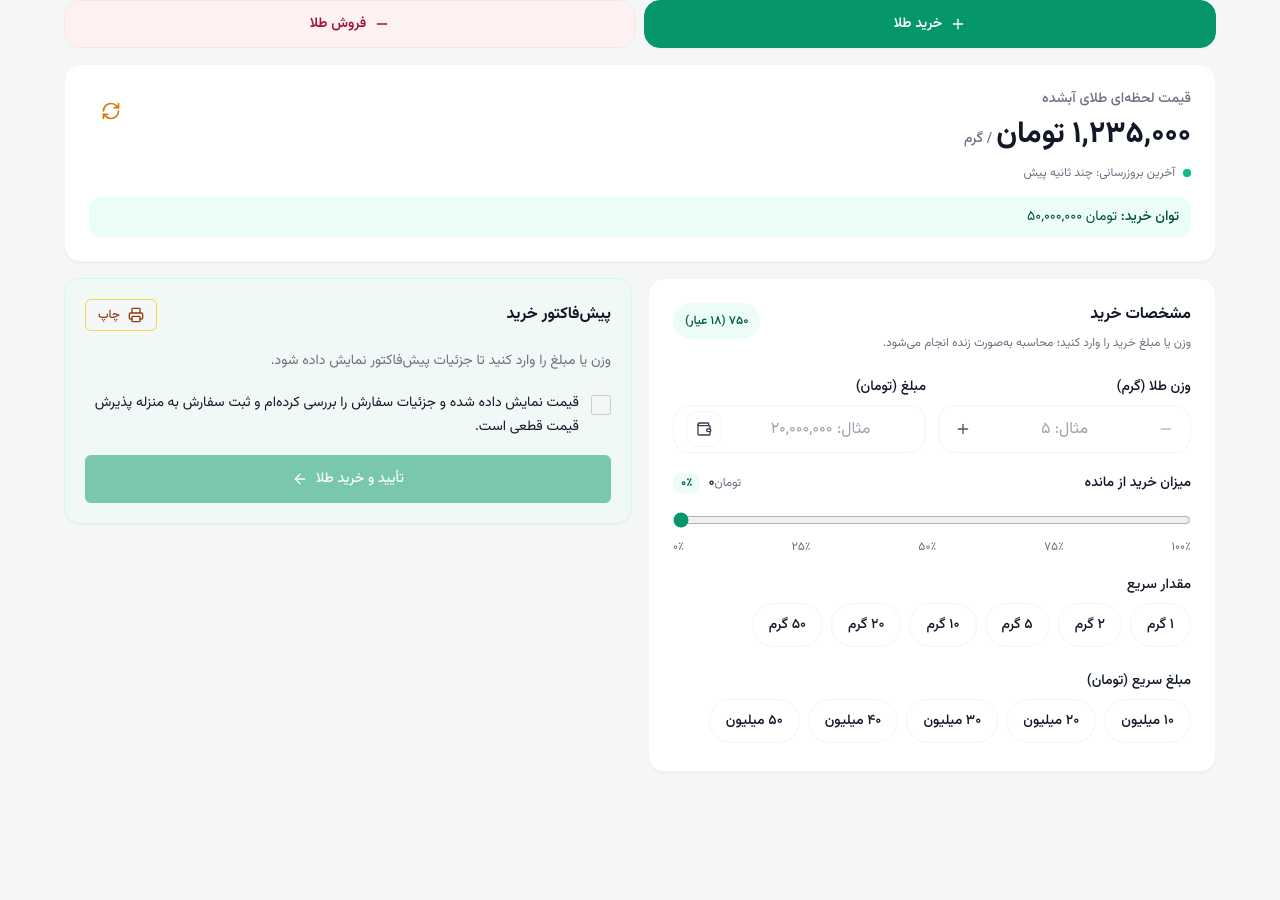
Scenario: BuyGoldPage › fills buy weight from a fifth of available credit
Check: the text "قیمت لحظه‌ای طلای آبشده" is shown, box x1=1042 y1=88 x2=1191 y2=110
Check: the text "مبلغ سریع (تومان)" is shown, box x1=1087 y1=670 x2=1191 y2=692
Click the button "۲۰ میلیون" at (1051, 721), box x1=1006 y1=699 x2=1096 y2=743
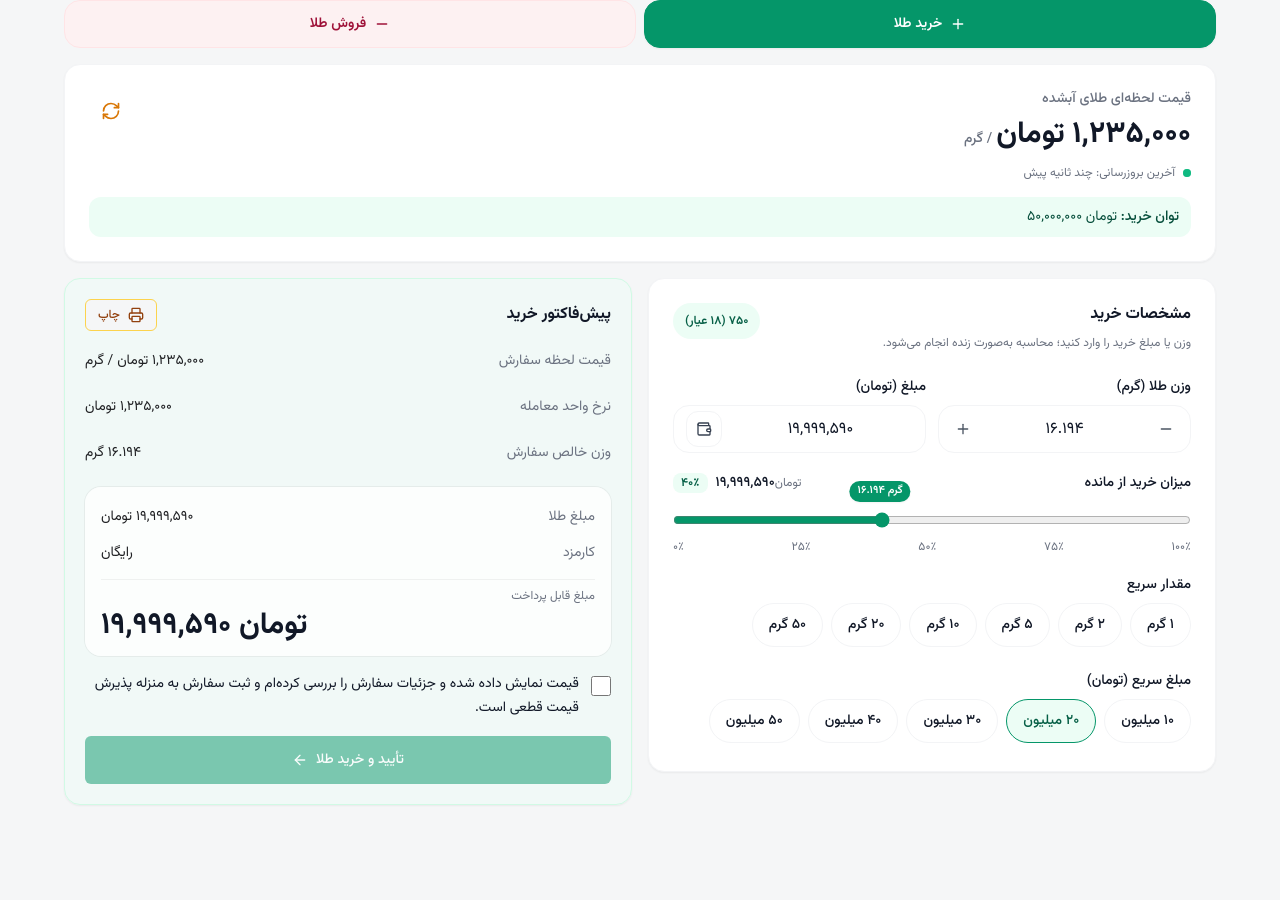
Check: the field showing "۱۶.۱۹۴" is shown, box x1=985 y1=406 x2=1144 y2=452
Check: the text "مبلغ قابل پرداخت" is shown, box x1=511 y1=587 x2=595 y2=605
